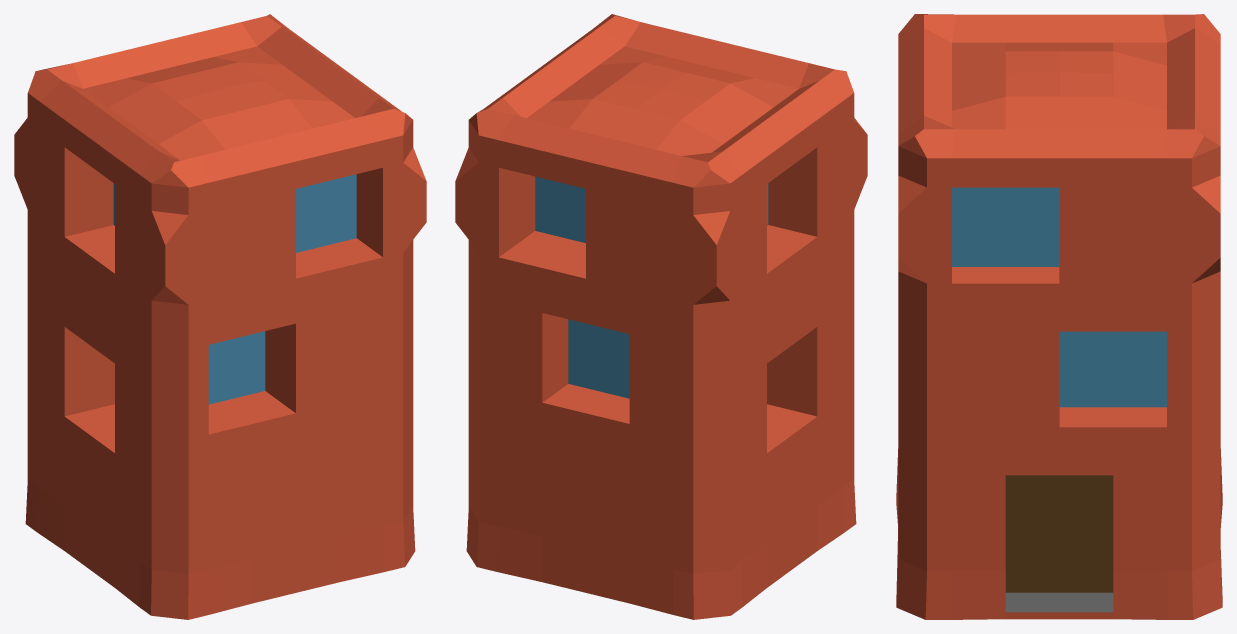
Rendered from house2.glb.
3 renders of one model, left to right at view 1: azimuth 30°, elevation 25°; view 2: azimuth 150°, elevation 25°; view 3: azimuth 270°, elevation 25°, orthographic. The views are drawn at different scales.
Parts seen in each view (by area): view 1: Cube; view 2: Cube; view 3: Cube.
Part boxes in pixels (x1,y1,x2,y2): Cube: (14,14,426,619); Cube: (455,14,867,619); Cube: (896,14,1222,619).
Bounding box in the file's own units: 2.02 × 3.28 × 2.02.
Materials: 1 (1 with a texture image).
